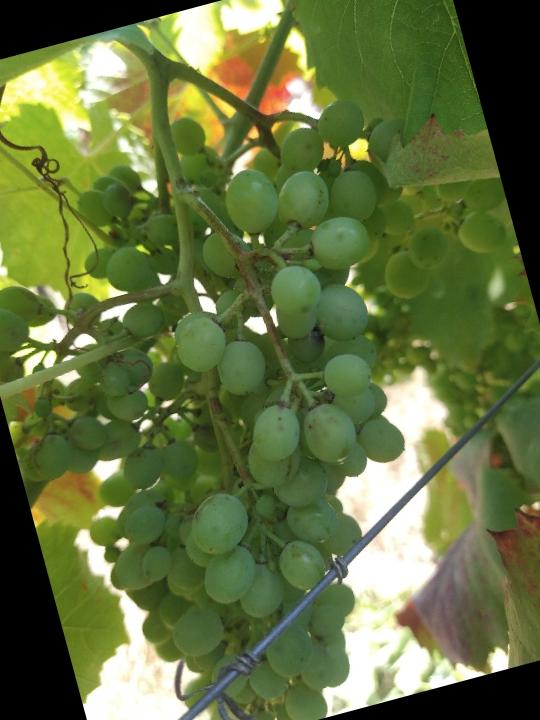grape: (0, 60, 540, 720)
